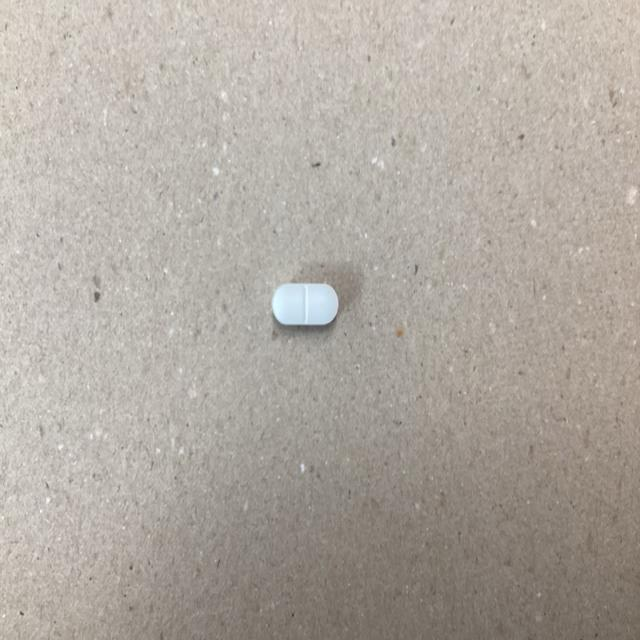-: (267, 271, 347, 340)
